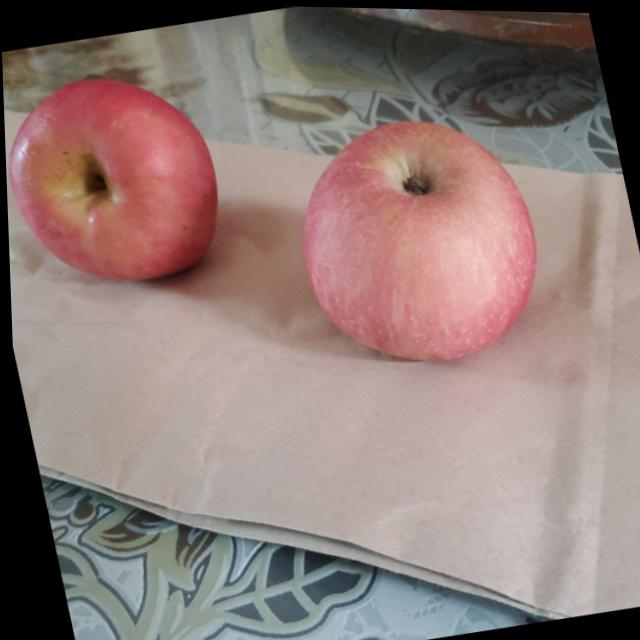apple: (281, 99, 556, 384), (2, 56, 237, 298)
